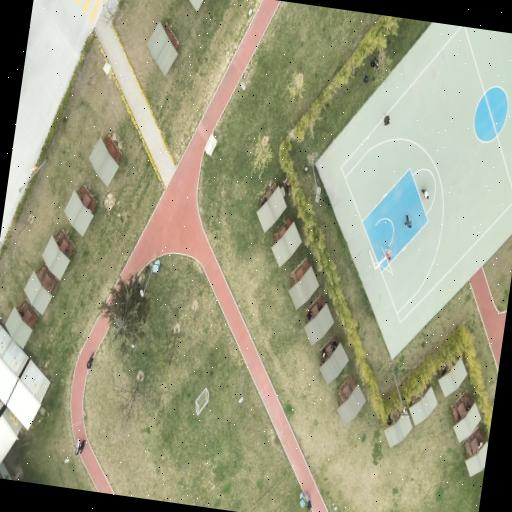person: (78, 438, 86, 453), (87, 352, 94, 369), (405, 213, 412, 227), (385, 247, 391, 261), (421, 189, 429, 199), (307, 495, 312, 509), (76, 438, 80, 455), (384, 114, 390, 125)
